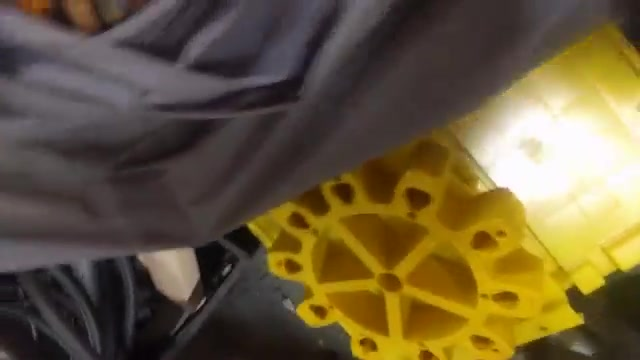gear: (227, 152, 563, 360)
